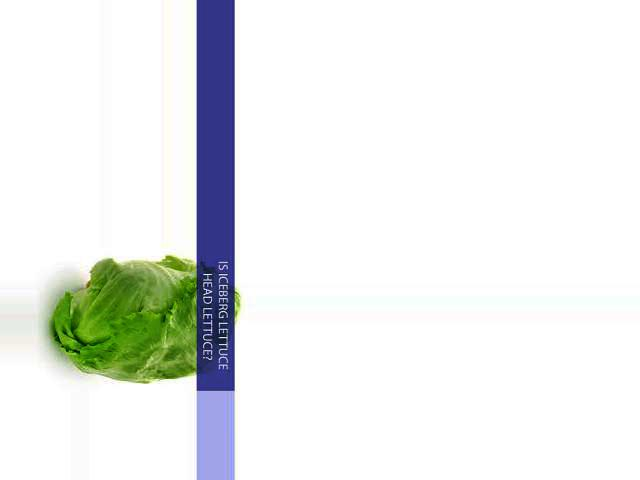lettuce: (107, 252, 240, 425)
